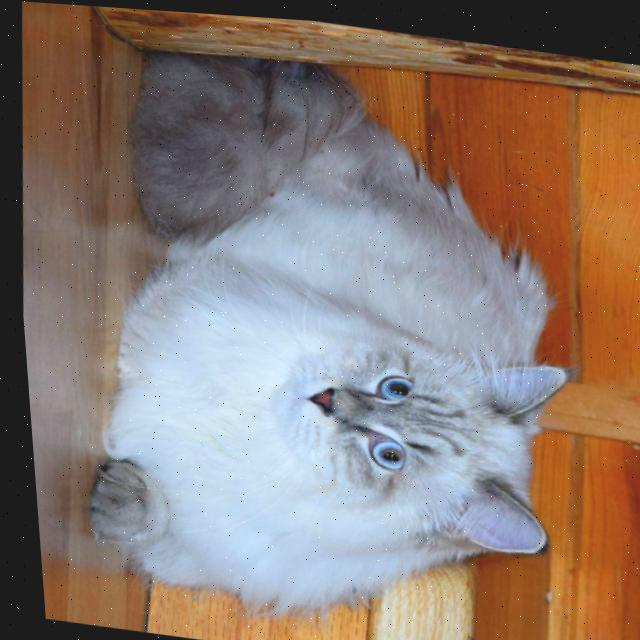Neva Masquerade: (40, 23, 605, 640)
